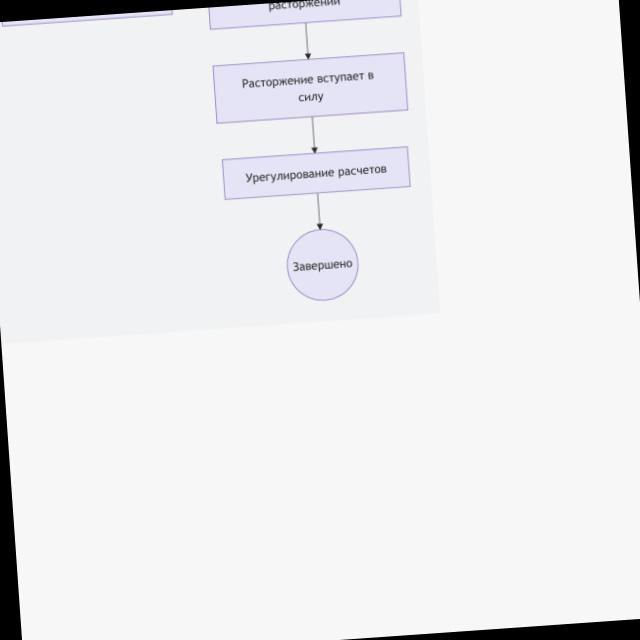arrow: (311, 118, 317, 153), (305, 23, 310, 59), (318, 195, 323, 229)
circle: (288, 229, 358, 300)
rectangle: (213, 53, 407, 123), (223, 147, 410, 200)
